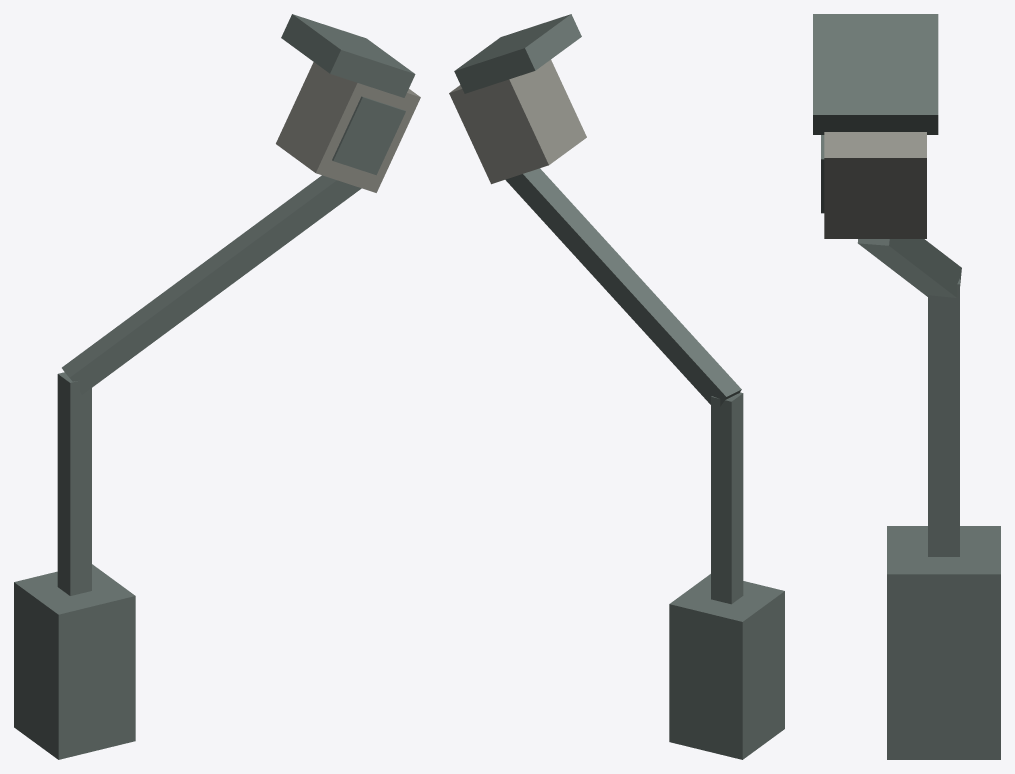
File: SM_Farola_v3_LOD0.fbx
3 views of the same model, side by side, from view 1: azimuth 30°, elevation 25°; view 2: azimuth 150°, elevation 25°; view 3: azimuth 270°, elevation 25° (orthographic). The views are drawn at different scales.
Parts seen in each view (by area): view 1: SM_urbano_v8_LOD0; view 2: SM_urbano_v8_LOD0; view 3: SM_urbano_v8_LOD0.
Part boxes in pixels (bbox=[...]): SM_urbano_v8_LOD0: bbox=[14, 14, 420, 759]; SM_urbano_v8_LOD0: bbox=[449, 14, 784, 759]; SM_urbano_v8_LOD0: bbox=[813, 14, 1000, 759].
Size of the model in its own units: 2.19 by 4.15 by 0.825.
